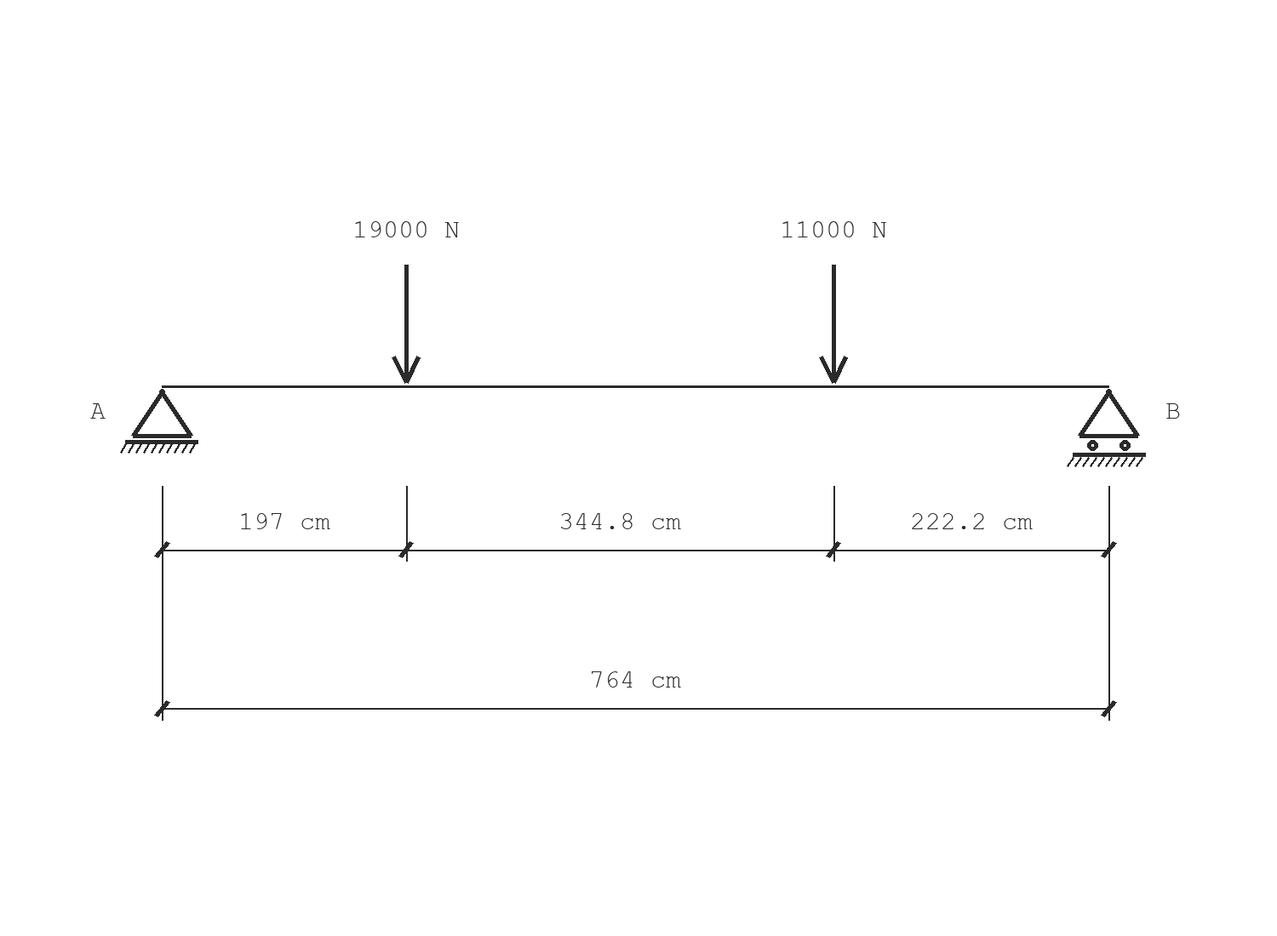pin_support: (120, 389, 198, 454)
point_load: (392, 265, 421, 384), (819, 265, 848, 384)
roller_support: (1067, 389, 1146, 467)
